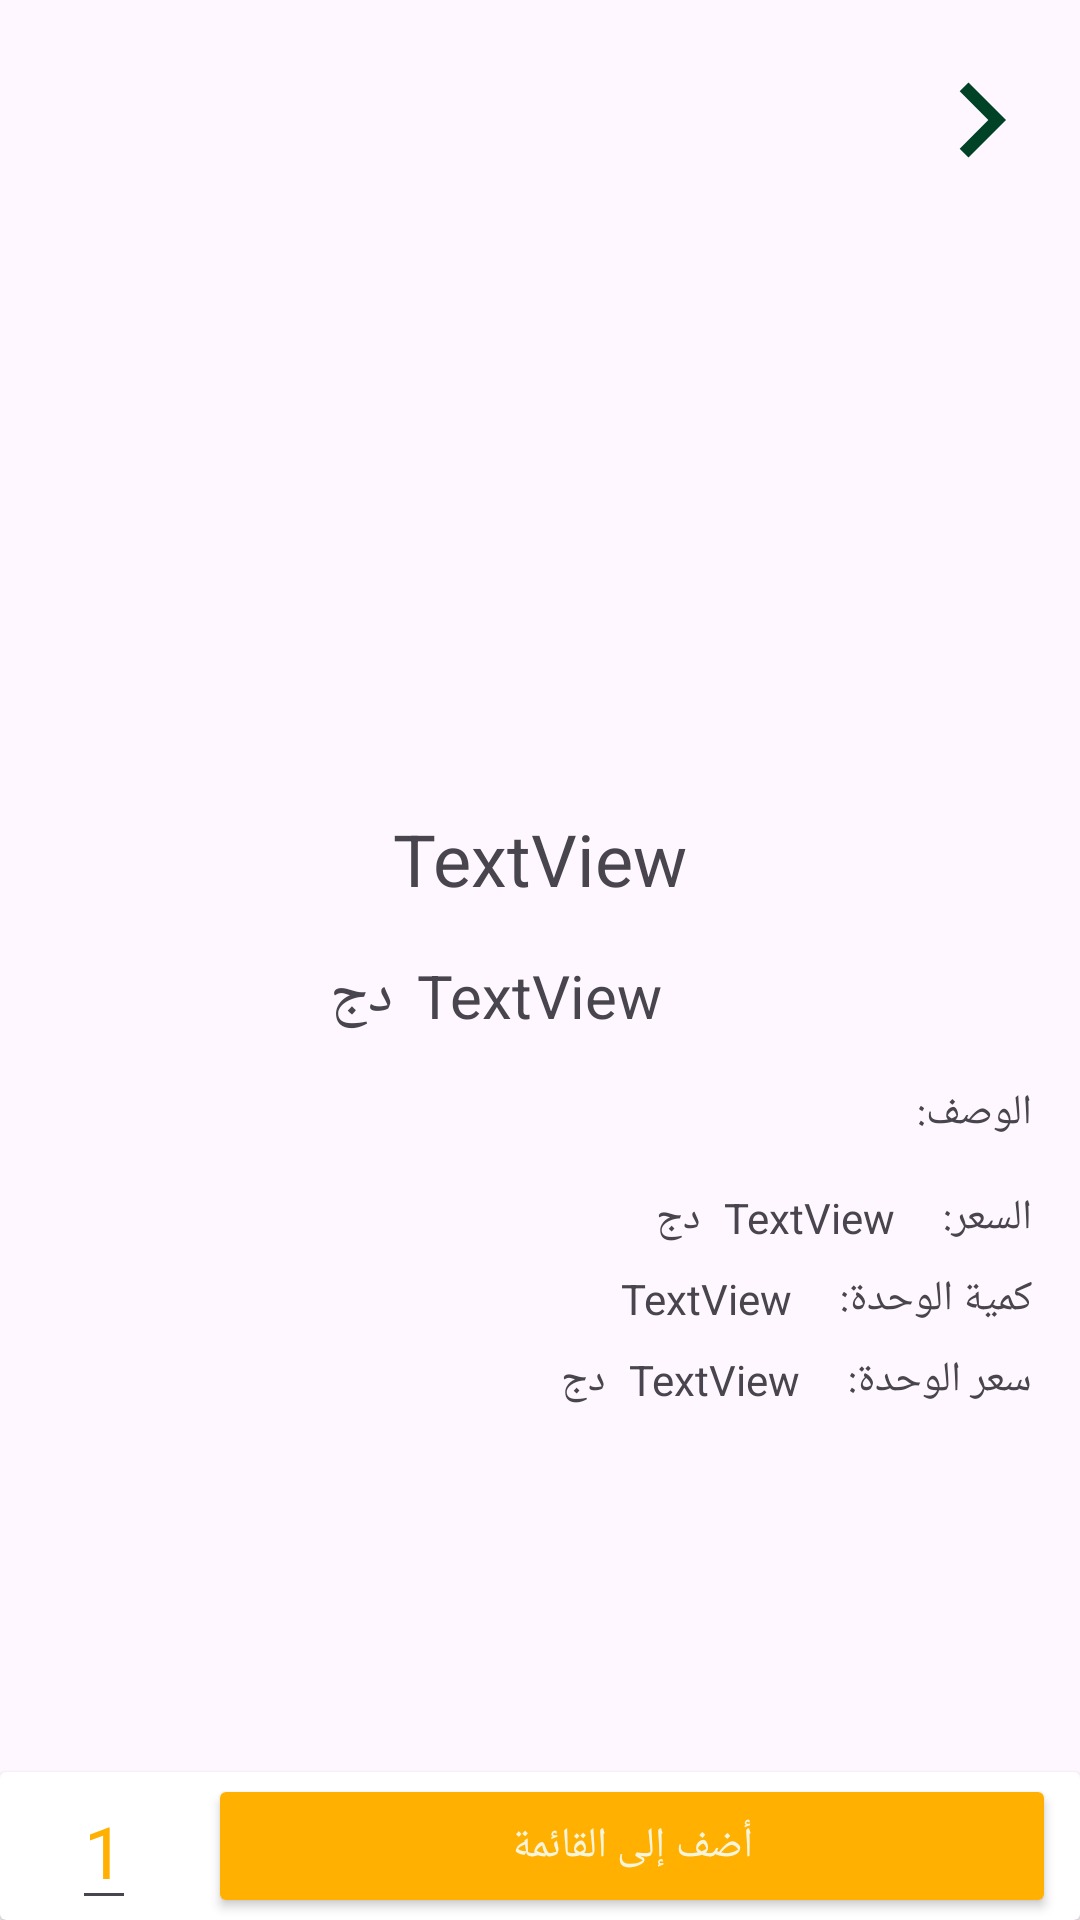

Point at icon controls on the screen. Image size 1080x1920, points as (x,y).
chevron right: (983,120)
